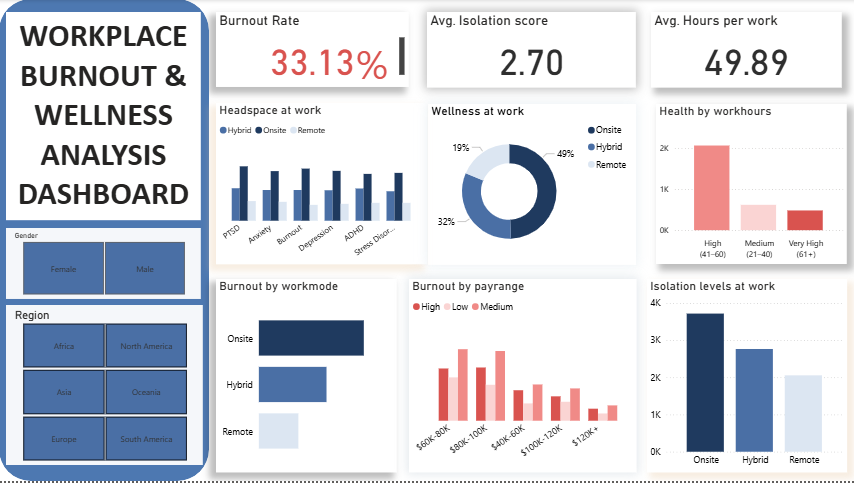

The page's visual inventory and layout, read from the dashboard file:
{"tool":"powerbi","page":{"name":"Page 1","canvas":[1280,720],"ordinal":0},"visuals":[{"type":"card","title":"Burnout Rate","fields":{"Values":["post_pandemic_remote_work_health.BurnoutRate"]},"box":[324.1,19.4,288.3,112],"z":0},{"type":"shape","box":[0,0,313.7,720],"z":1000},{"type":"clusteredColumnChart","title":"Headspace at work","fields":{"Category":["post_pandemic_remote_work_healt.Mental_Health_Status"],"Y":["CountNonNull(post_pandemic_remote_work_healt.Mental_Health_Status)"],"Series":["post_pandemic_remote_work_health.Work_Arrangement"]},"box":[324.8,155.5,315.2,240.9],"z":2000},{"type":"slicer","fields":{"Values":["post_pandemic_remote_work_healt.Region"]},"box":[10.5,457.1,294.3,239],"z":3000},{"type":"clusteredBarChart","title":"Burnout by workmode","fields":{"Category":["post_pandemic_remote_work_health.Work_Arrangement"],"Y":["CountNonNull(post_pandemic_remote_work_health.Burnout level)"]},"box":[324.8,418.4,269.8,289],"z":4000},{"type":"donutChart","title":"Wellness at work","fields":{"Category":["post_pandemic_remote_work_healt.Work_Arrangement"],"Y":["CountNonNull(post_pandemic_remote_work_healt.Physical_Health_Issues)"]},"box":[640.8,156.8,310.7,240.5],"z":5000},{"type":"clusteredColumnChart","title":"Burnout by payrange","fields":{"Category":["post_pandemic_remote_work_healt.Salary_Range"],"Y":["CountNonNull(post_pandemic_remote_work_healt.Burnout_Level)"],"Series":["post_pandemic_remote_work_healt.Burnout_Level"]},"box":[612.5,418.4,340,289],"z":6000},{"type":"clusteredColumnChart","title":"Health by workhours","fields":{"Category":["post_pandemic_remote_work_health.WorkHourCategory"],"Y":["CountNonNull(post_pandemic_remote_work_health.Physical_Health_Issues)"]},"box":[981.3,156.9,284.9,239.5],"z":7000},{"type":"clusteredColumnChart","title":"Isolation levels at work","fields":{"Category":["post_pandemic_remote_work_health.Work_Arrangement"],"Y":["Sum(post_pandemic_remote_work_health.Social_Isolation_Score)"]},"box":[967.6,418.4,298.7,289],"z":8000},{"type":"textbox","box":[10.5,19.4,291.3,310.7],"z":9000},{"type":"slicer","fields":{"Values":["post_pandemic_remote_work_health.Gender"]},"box":[10.5,342.1,291.3,106.1],"z":10000},{"type":"card","title":"Avg. Isolation score","fields":{"Values":["post_pandemic_remote_work_health.AvgIsolation"]},"box":[640,19.3,312.4,112.9],"z":11000},{"type":"card","title":"Avg. Hours per work","fields":{"Values":["post_pandemic_remote_work_health.AvgHoursPerArrangement"]},"box":[974.5,19.3,284.9,112.9],"z":12000},{"type":"textbox","box":[528.8,52.3,82.2,76.2],"z":13001}]}

Visuals, with their boxes in screenshot pixels (x1, y1, x2, y2), scaled from the page's 1280x720 canvas onto the 854x483 screenshot:
"Burnout Rate" card: <box>216,13,409,88</box>
shape: <box>0,0,209,482</box>
"Headspace at work" clusteredColumnChart: <box>217,104,427,266</box>
slicer - post_pandemic_remote_work_healt.Region: <box>7,307,203,467</box>
"Burnout by workmode" clusteredBarChart: <box>217,281,397,475</box>
"Wellness at work" donutChart: <box>428,105,635,267</box>
"Burnout by payrange" clusteredColumnChart: <box>409,281,635,475</box>
"Health by workhours" clusteredColumnChart: <box>655,105,845,266</box>
"Isolation levels at work" clusteredColumnChart: <box>646,281,845,475</box>
textbox: <box>7,13,201,221</box>
slicer - post_pandemic_remote_work_health.Gender: <box>7,229,201,301</box>
"Avg. Isolation score" card: <box>427,13,635,89</box>
"Avg. Hours per work" card: <box>650,13,840,89</box>
textbox: <box>353,35,408,86</box>
